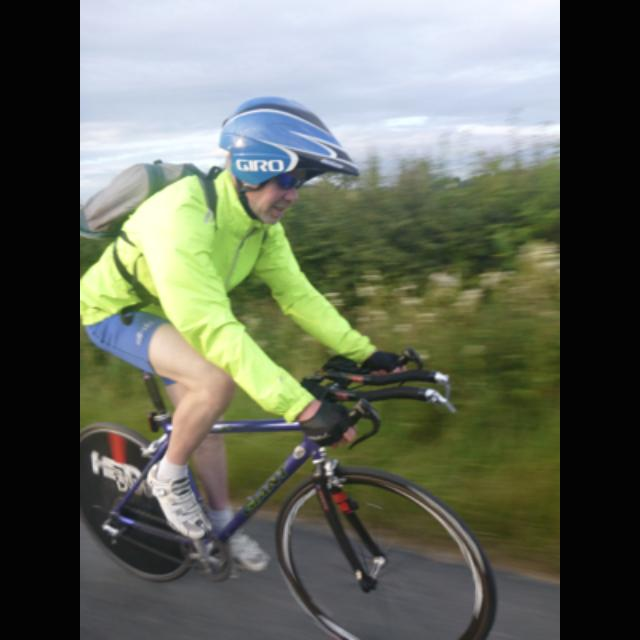With Helmet: (222, 85, 362, 231)
